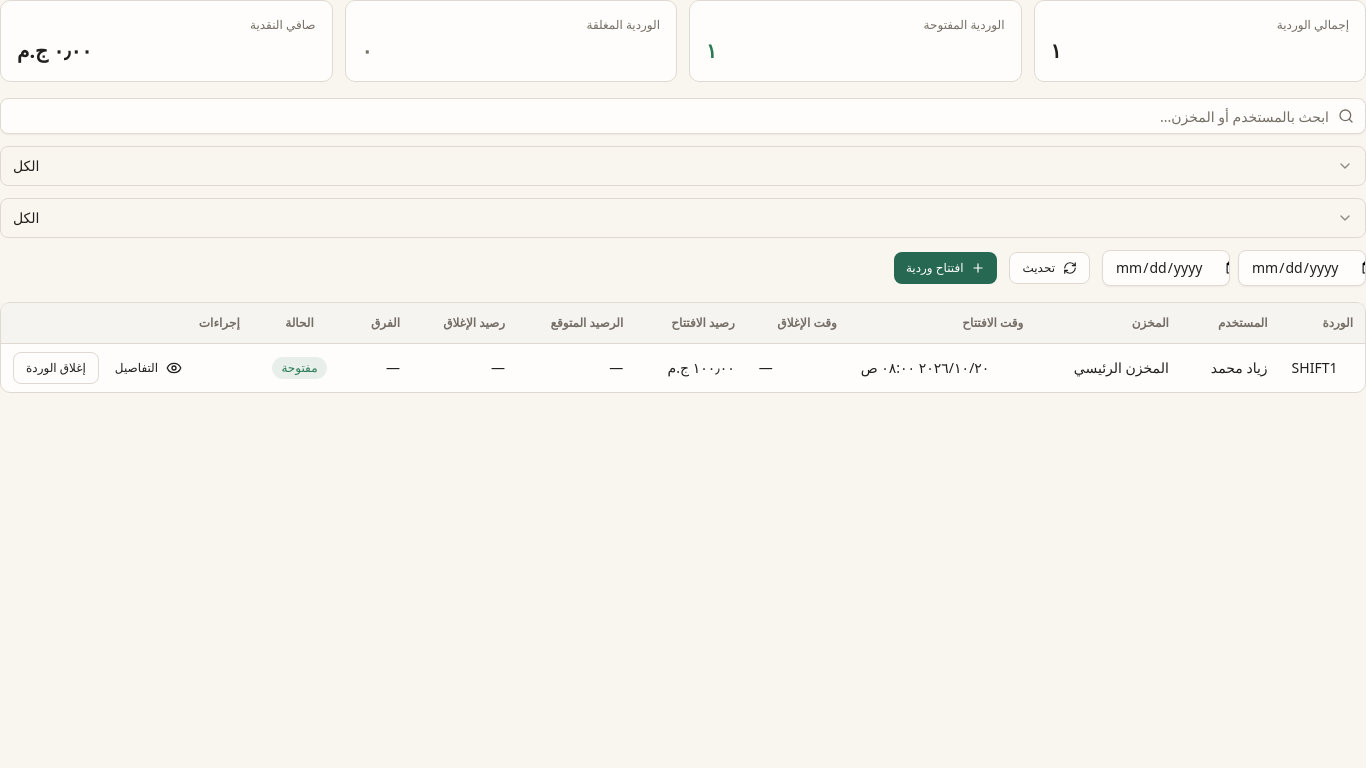
Test: shift management page › blocks opening a shift until a warehouse is selected
Click the button "افتتاح وردية": (946,268) top-left (894, 252), bottom-right (997, 284)
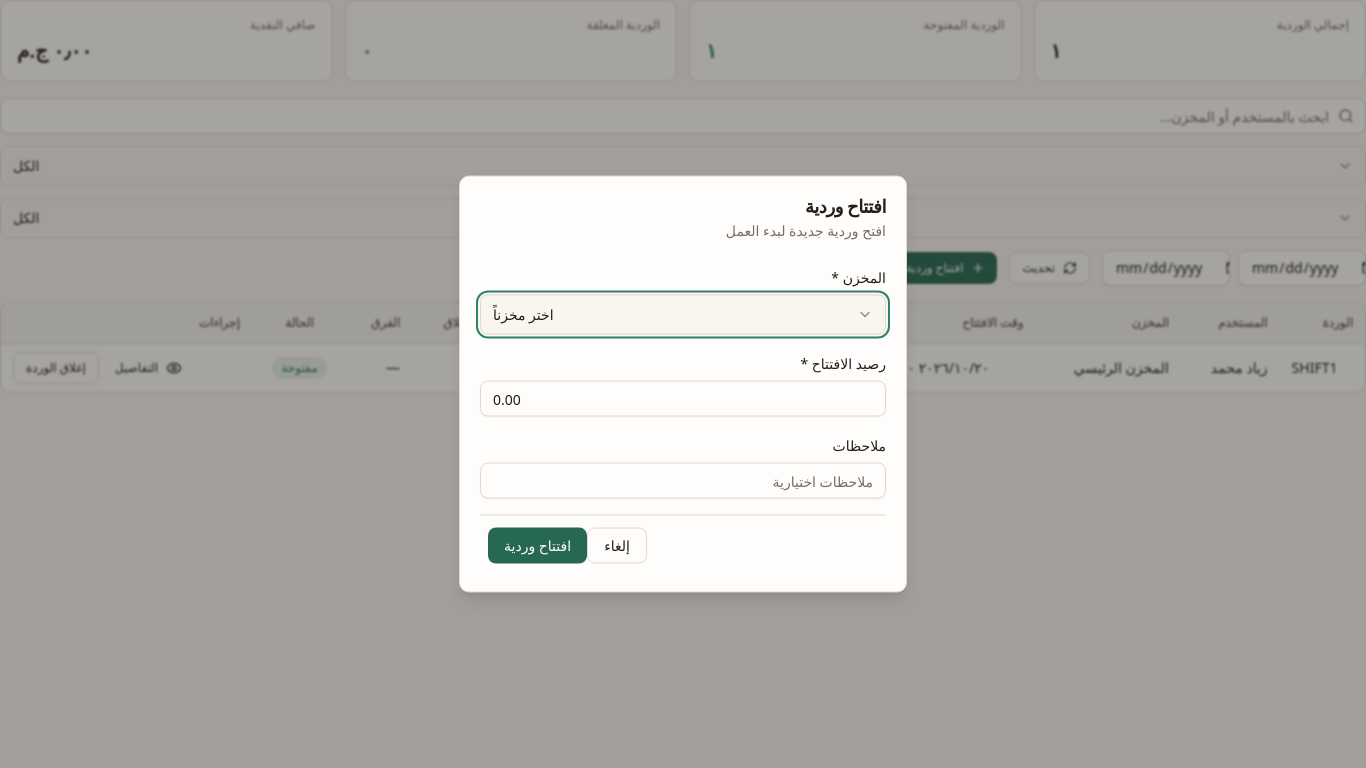
Click the button "افتتاح وردية": (538,546) top-left (488, 528), bottom-right (587, 564)
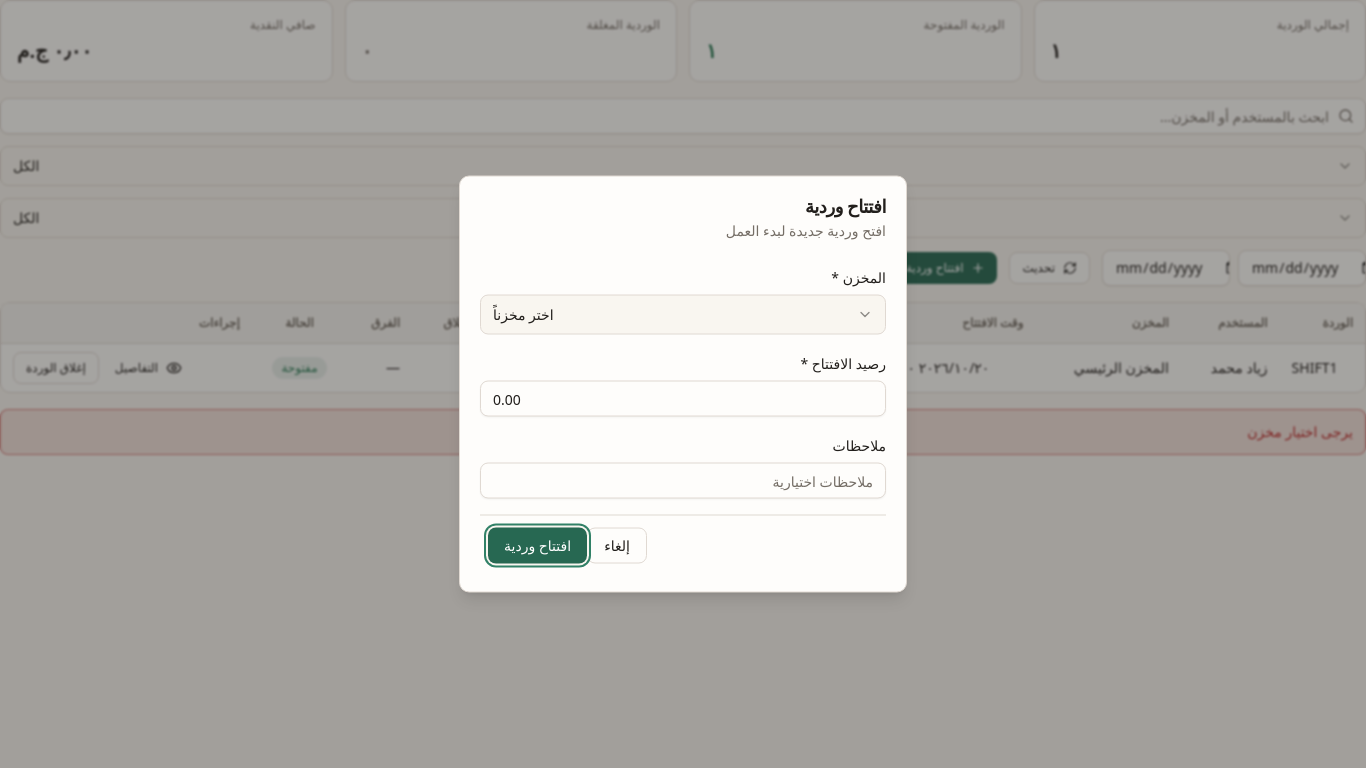
expect the text "يرجى اختيار مخزن" is shown: met, box top-left (0, 408), bottom-right (1365, 454)
